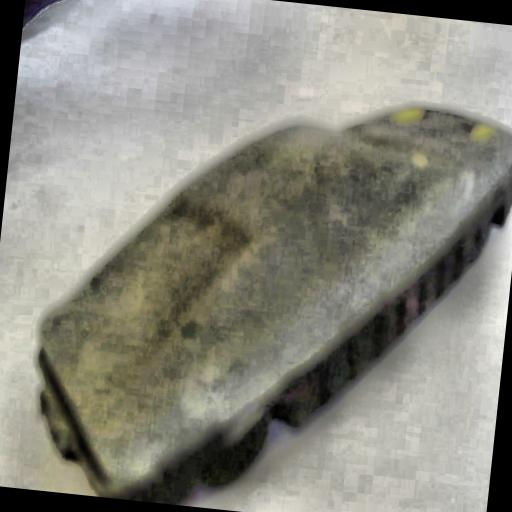normal_car: (19, 71, 512, 512)
